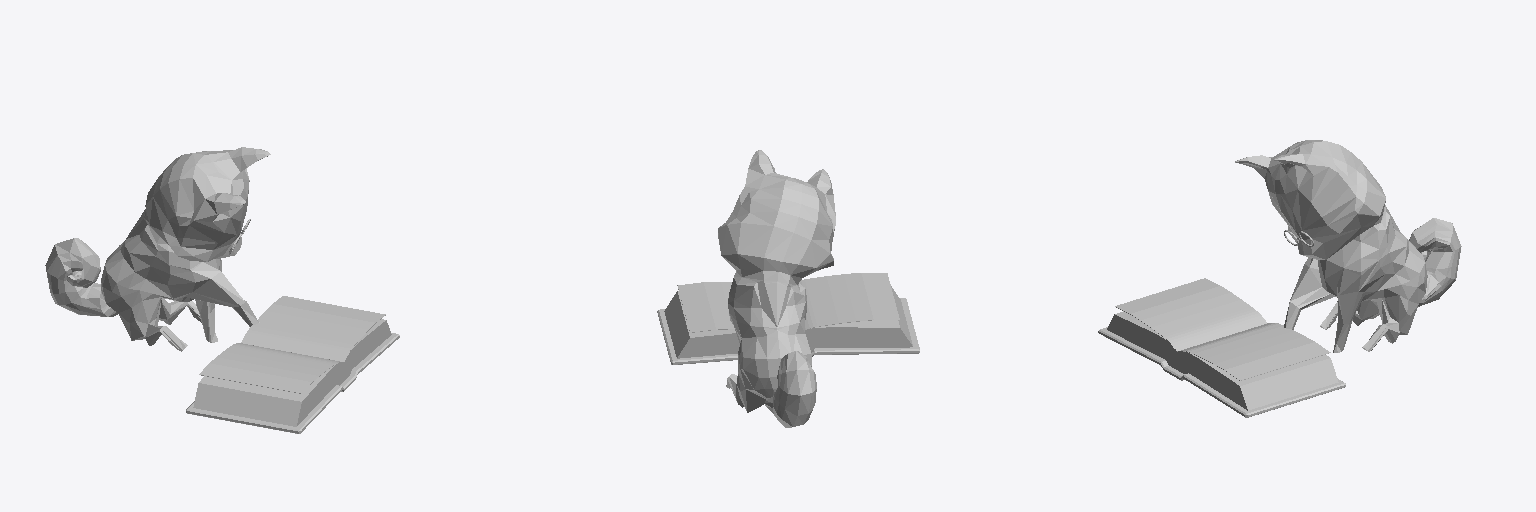
File: book_frame42.obj
The picture shows the model from 3 angles: view 1: azimuth 30°, elevation 25°; view 2: azimuth 150°, elevation 25°; view 3: azimuth 270°, elevation 25°; orthographic projection.
Parts seen in each view (by area): view 1: StidyGlasses_Computer_Sitting:Sitting:newRigging:BodzL1, polySurface1; view 2: StidyGlasses_Computer_Sitting:Sitting:newRigging:BodzL1, polySurface1; view 3: StidyGlasses_Computer_Sitting:Sitting:newRigging:BodzL1, polySurface1.
Part boxes in pixels (bbox=[...]): StidyGlasses_Computer_Sitting:Sitting:newRigging:BodzL1: bbox=[45, 147, 270, 351]; polySurface1: bbox=[186, 296, 399, 433]; StidyGlasses_Computer_Sitting:Sitting:newRigging:BodzL1: bbox=[718, 150, 835, 427]; polySurface1: bbox=[657, 273, 919, 364]; StidyGlasses_Computer_Sitting:Sitting:newRigging:BodzL1: bbox=[1235, 140, 1461, 352]; polySurface1: bbox=[1098, 278, 1345, 417].
Bounding box in the file's own units: 9.04 × 7 × 11.21.